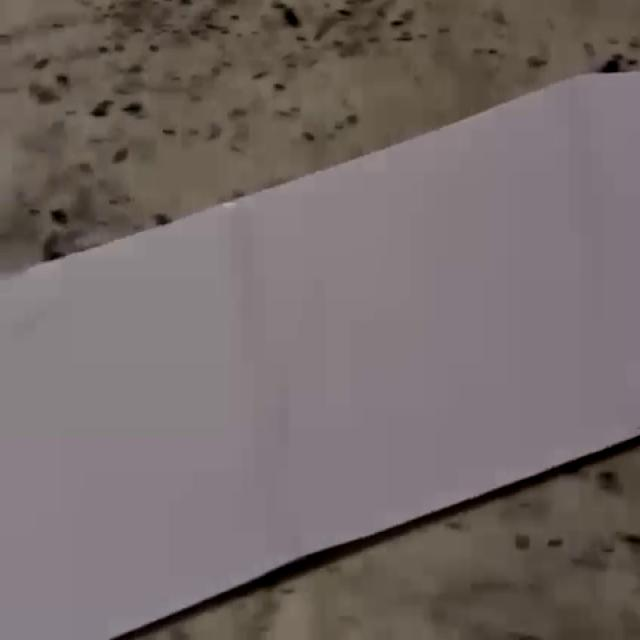road: (0, 72, 640, 636)
